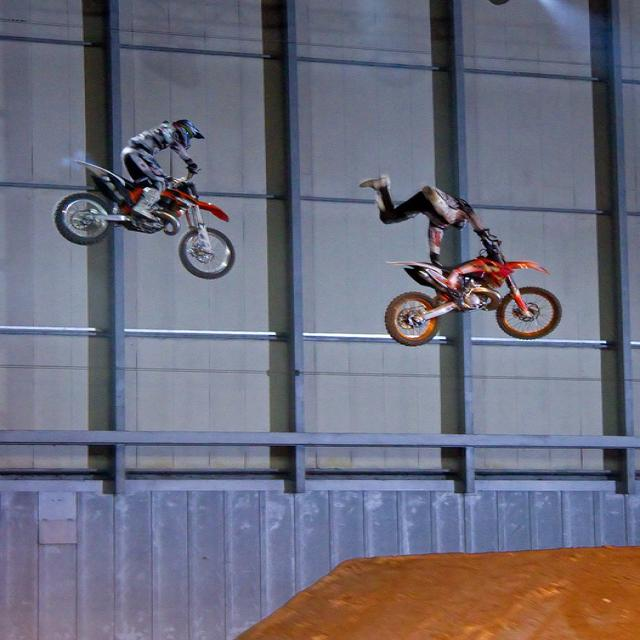motor: (54, 119, 236, 280), (384, 228, 563, 347)
